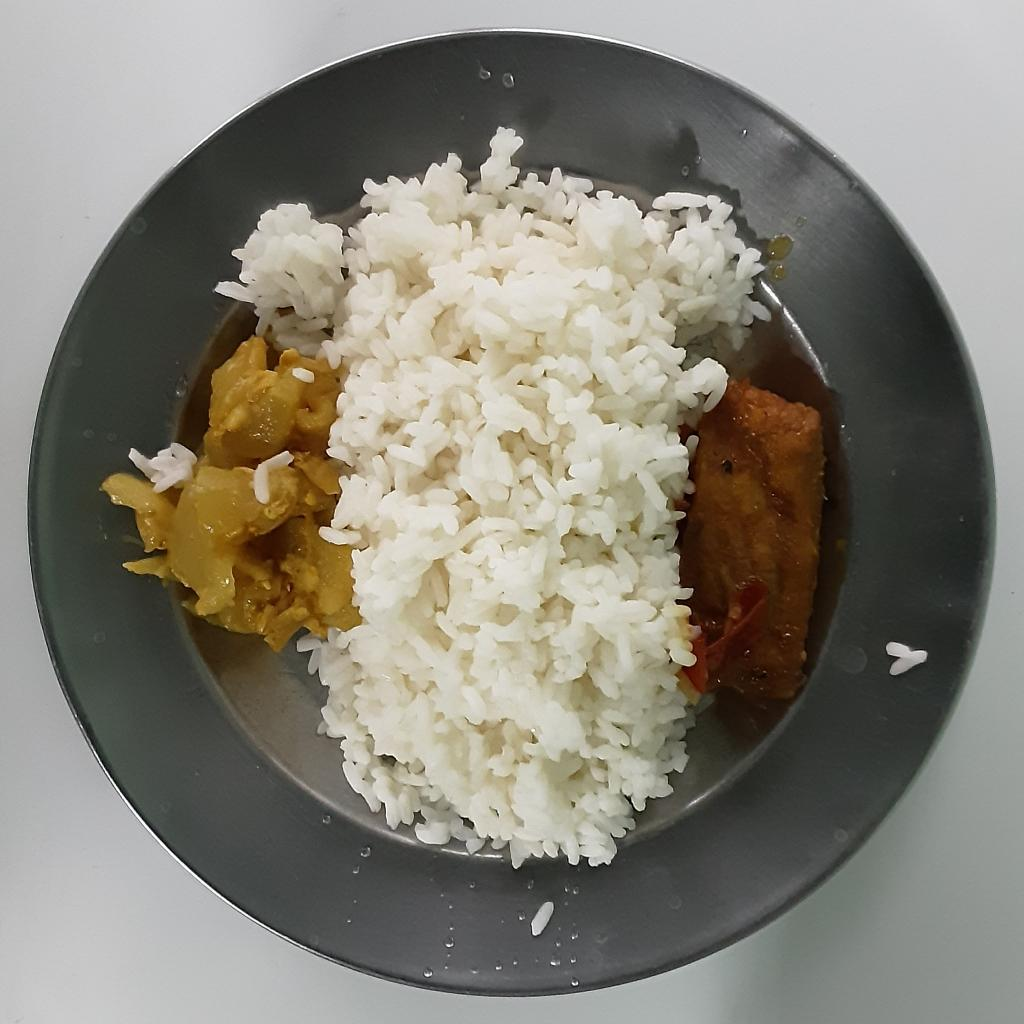fish: (683, 380, 830, 720)
papaya: (101, 332, 345, 651)
rice: (214, 133, 776, 872), (253, 446, 298, 505)
